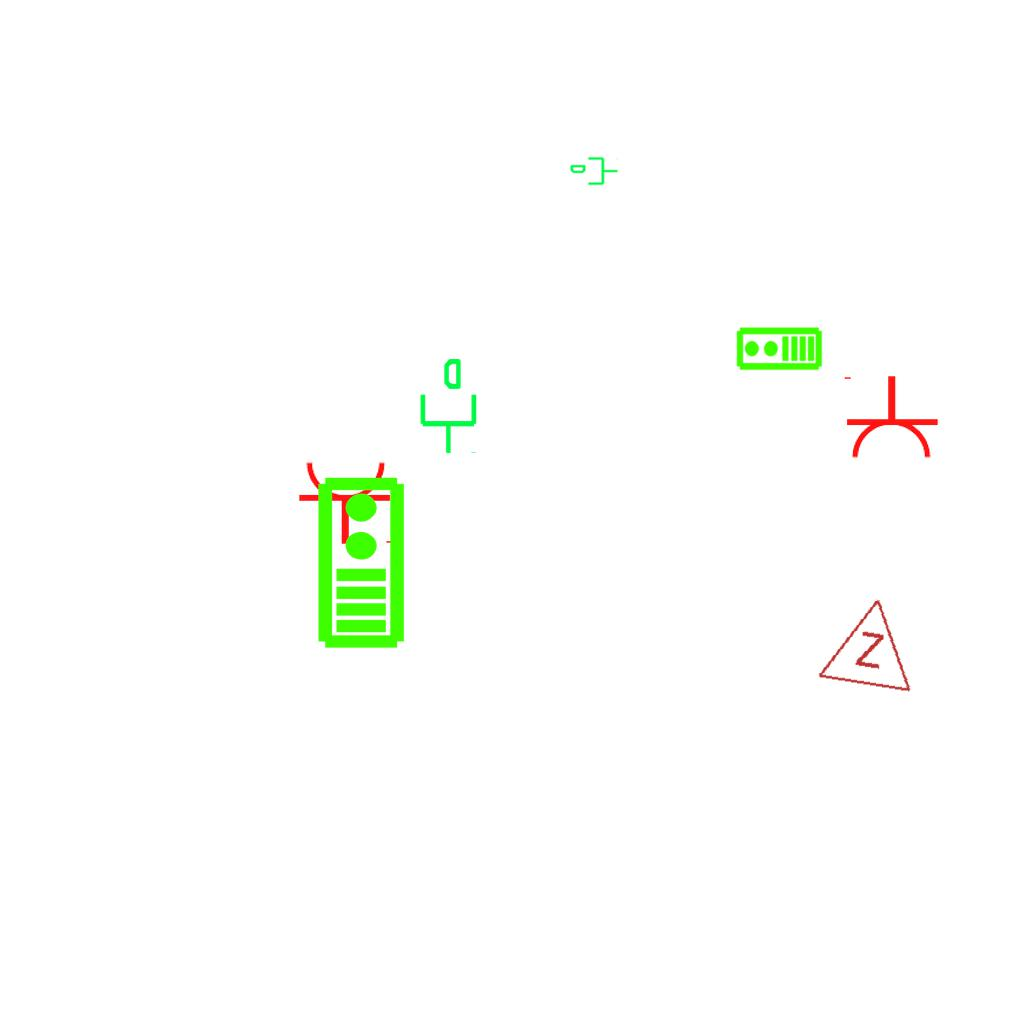Datenanschluss_einfach: (412, 356, 481, 456), (569, 155, 619, 189)
Gegensprechanlage_mit_Video: (312, 474, 407, 650), (735, 326, 823, 373)
Schukosteckdose_einfach: (297, 459, 397, 546), (840, 374, 940, 461)
Zimmersignalleuchte: (813, 584, 927, 700)
